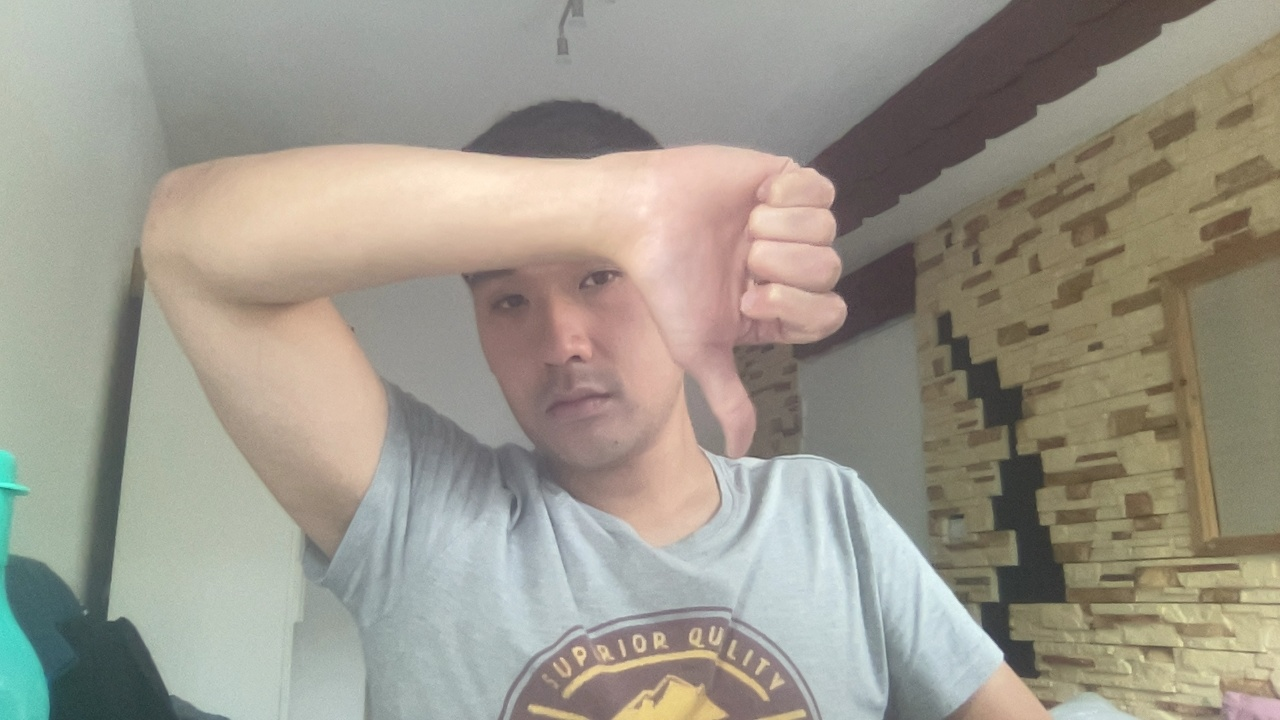bad: (626, 145, 849, 461)
